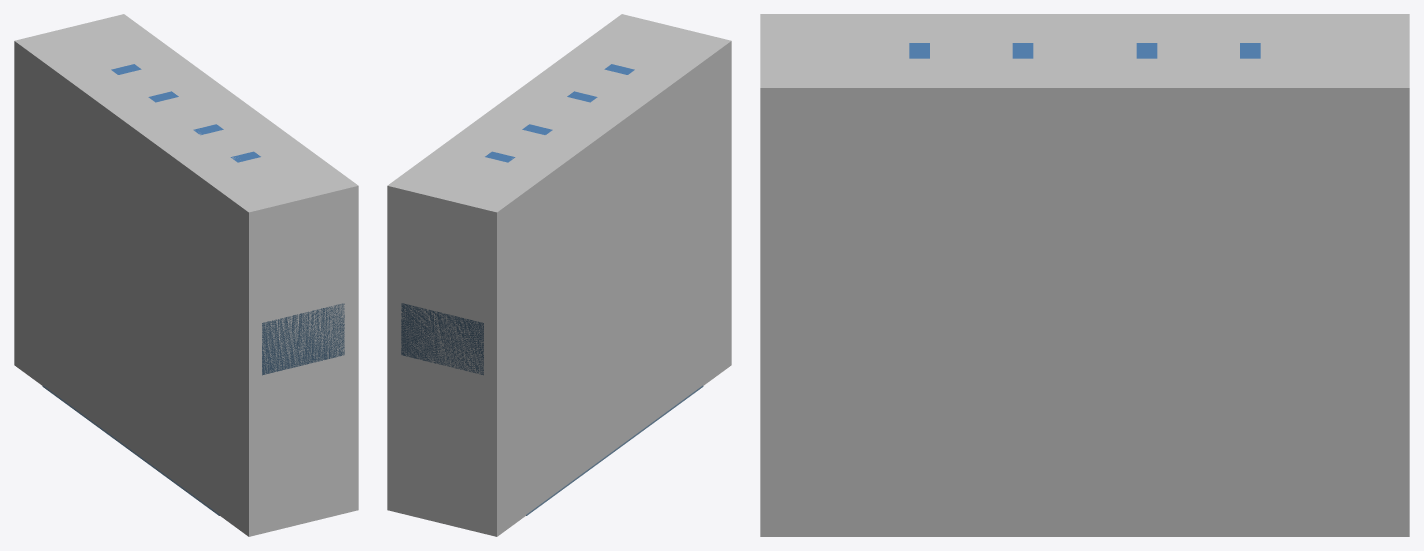
The model's file is SM_Billboard_12.fbx.
3 views of the same model, side by side, from view 1: azimuth 30°, elevation 25°; view 2: azimuth 150°, elevation 25°; view 3: azimuth 270°, elevation 25° (orthographic). The views are drawn at different scales.
Parts seen in each view (by area): view 1: SM_Billboard_12_ConvexHulls, SM_Billboard_12; view 2: SM_Billboard_12_ConvexHulls, SM_Billboard_12; view 3: SM_Billboard_12_ConvexHulls, SM_Billboard_12.
Boxes of the visible parts, box(x1,y1,x2,y2) form: SM_Billboard_12_ConvexHulls: box(14, 14, 358, 536); SM_Billboard_12: box(42, 64, 344, 515); SM_Billboard_12_ConvexHulls: box(387, 14, 731, 536); SM_Billboard_12: box(401, 64, 703, 515); SM_Billboard_12_ConvexHulls: box(760, 14, 1409, 536); SM_Billboard_12: box(909, 43, 1260, 58).
Bounding box in the file's own units: 85.46 × 314 × 240.
